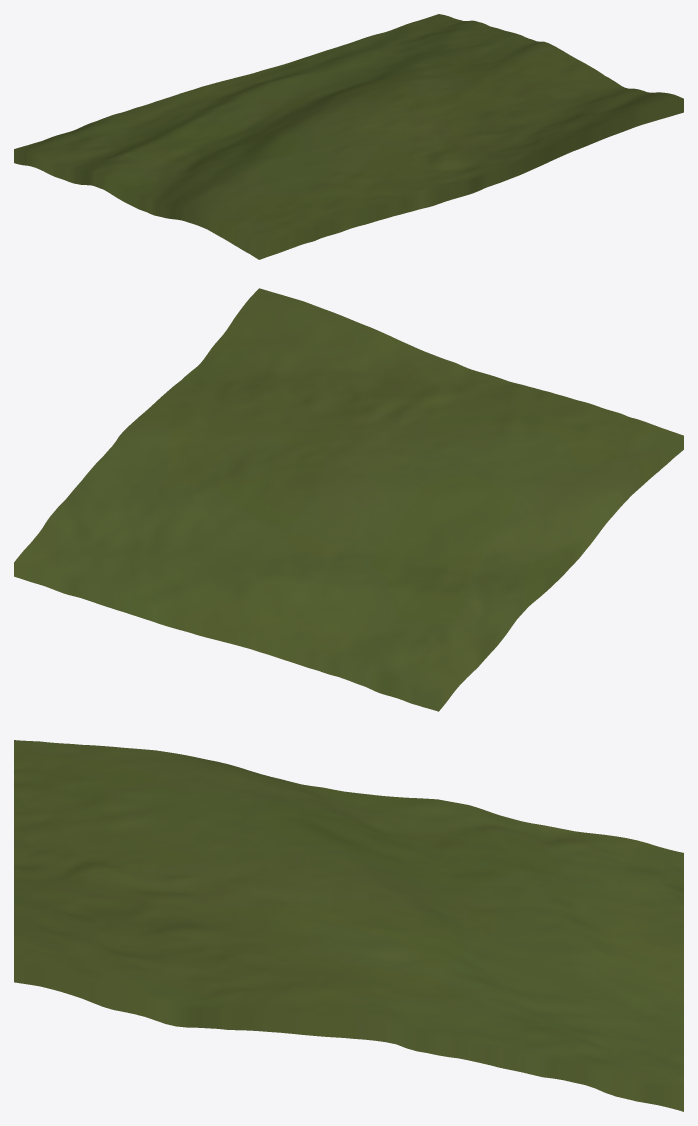
The model's file is terrain_3_-2.glb.
The picture shows the model from 3 angles, top to bottom: view 1: azimuth 30°, elevation 25°; view 2: azimuth 150°, elevation 25°; view 3: azimuth 270°, elevation 25°; orthographic projection. The views are drawn at different scales.
Visible parts, largest first — view 1: terrain_3_-2; view 2: terrain_3_-2; view 3: terrain_3_-2.
Boxes of the visible parts, left/top/right/bottom form: terrain_3_-2: left=14, top=14, right=683, bottom=259; terrain_3_-2: left=14, top=288, right=683, bottom=711; terrain_3_-2: left=14, top=740, right=683, bottom=1111.
Bounding box in the file's own units: 256 × 80.8 × 256.
